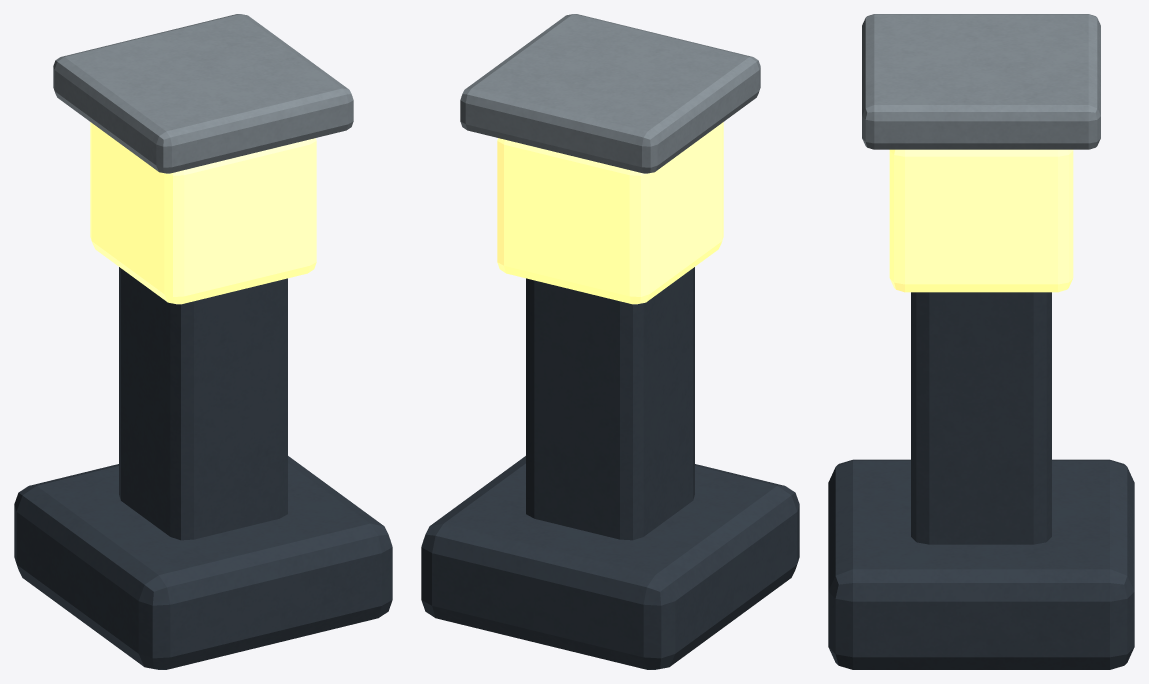
Rendered from landing-lamp.glb.
3 views of the same model, side by side, from view 1: azimuth 30°, elevation 25°; view 2: azimuth 150°, elevation 25°; view 3: azimuth 270°, elevation 25° (orthographic). The views are drawn at different scales.
Parts seen in each view (by area): view 1: Assembly_Graphite_frame, Lamp cap, Lamp diffuser; view 2: Assembly_Graphite_frame, Lamp cap, Lamp diffuser; view 3: Assembly_Graphite_frame, Lamp cap, Lamp diffuser.
Boxes of the visible parts, x1=… form: Assembly_Graphite_frame: x1=14, y1=267, x2=392, y2=669; Lamp cap: x1=53, y1=14, x2=353, y2=173; Lamp diffuser: x1=90, y1=122, x2=316, y2=304; Assembly_Graphite_frame: x1=421, y1=267, x2=799, y2=669; Lamp cap: x1=460, y1=14, x2=760, y2=173; Lamp diffuser: x1=497, y1=122, x2=723, y2=304; Assembly_Graphite_frame: x1=828, y1=292, x2=1134, y2=669; Lamp cap: x1=862, y1=14, x2=1100, y2=149; Lamp diffuser: x1=889, y1=149, x2=1073, y2=292.
Size of the model in its own units: 0.5 by 1 by 0.5.
Materials: 3 (2 with a texture image).
